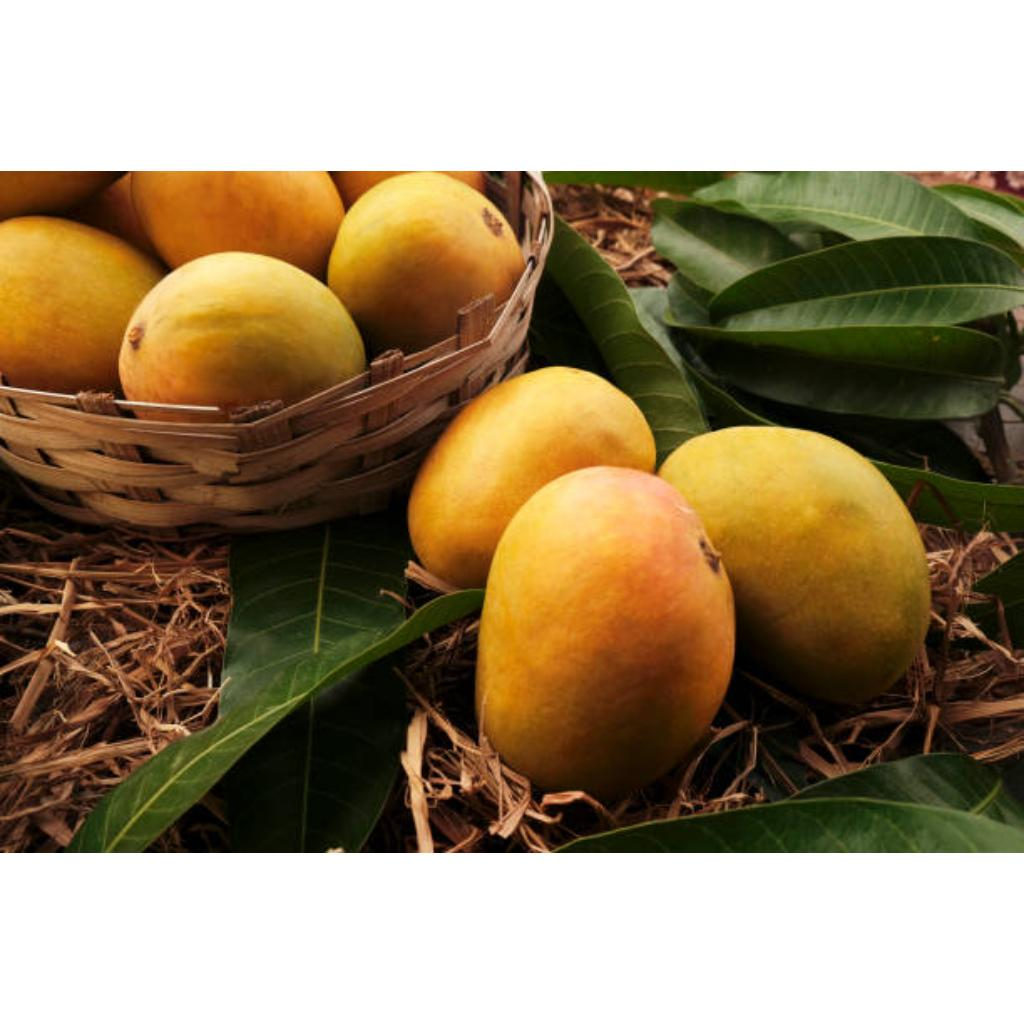mango: (476, 467, 734, 798), (658, 427, 930, 703), (408, 367, 654, 589), (118, 253, 366, 410), (328, 171, 524, 354), (0, 219, 164, 394), (132, 171, 344, 278)
